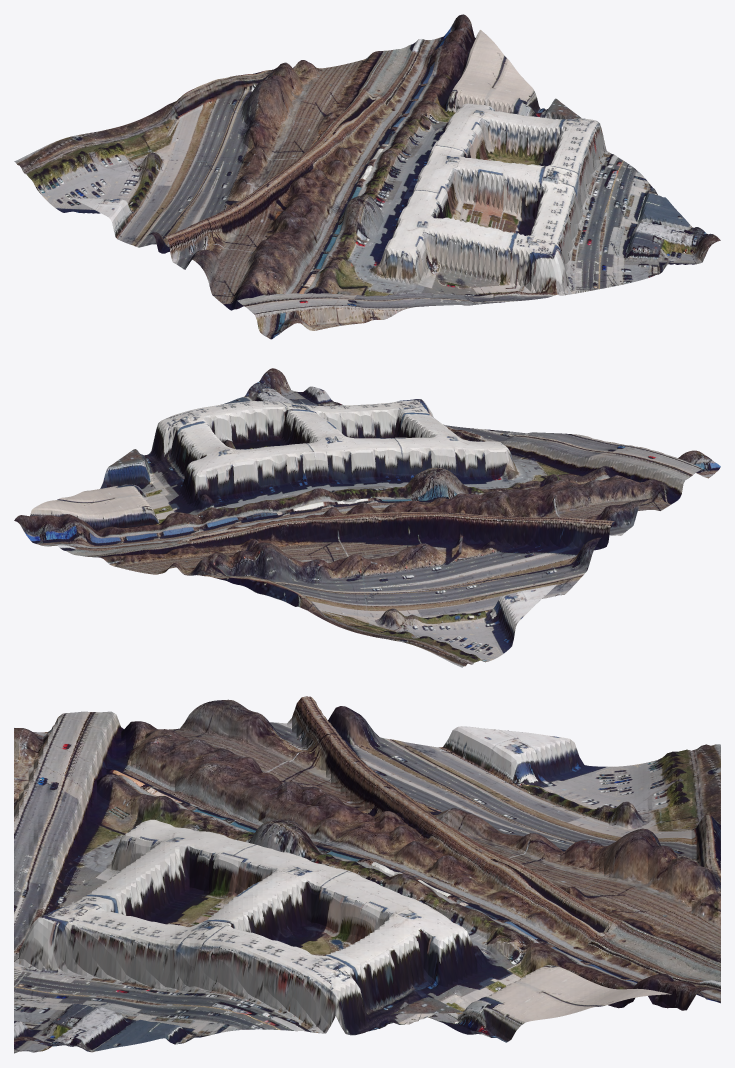
The model's file is terrain.glb.
3 renders of one model, top to bottom at view 1: azimuth 30°, elevation 25°; view 2: azimuth 150°, elevation 25°; view 3: azimuth 270°, elevation 25°, orthographic. The views are drawn at different scales.
Parts seen in each view (by area): view 1: geometry_0; view 2: geometry_0; view 3: geometry_0.
Boxes of the visible parts, x1,y1,x2,y2 form: geometry_0: [14, 14, 720, 339]; geometry_0: [14, 368, 720, 667]; geometry_0: [14, 696, 720, 1053].
Bounding box in the file's own units: 508 × 72.05 × 508.
1 material, 1 textured.
